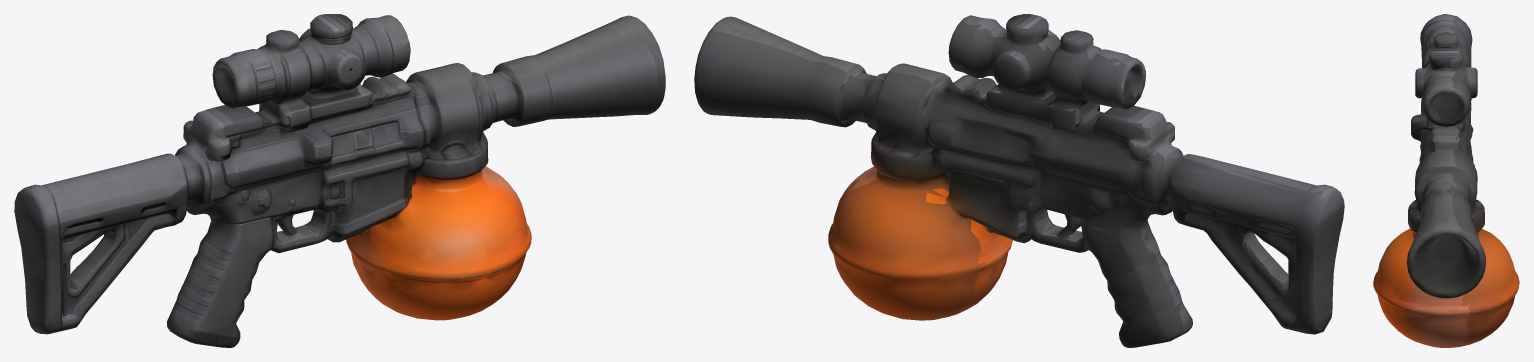
The model's file is flamer.glb.
3 renders of one model, left to right at view 1: azimuth 30°, elevation 25°; view 2: azimuth 150°, elevation 25°; view 3: azimuth 270°, elevation 25°, orthographic. The views are drawn at different scales.
Parts seen in each view (by area): view 1: flamer; view 2: flamer; view 3: flamer.
Part boxes in pixels (bbox=[...]): flamer: bbox=[14, 14, 665, 347]; flamer: bbox=[694, 14, 1344, 347]; flamer: bbox=[1373, 14, 1519, 347].
Bounding box in the file's own units: 1.05 × 0.5166 × 0.2785.
1 material, 1 textured.
